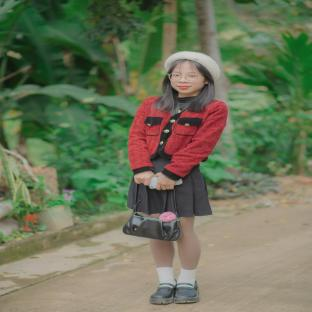Human: (123, 51, 228, 304)
